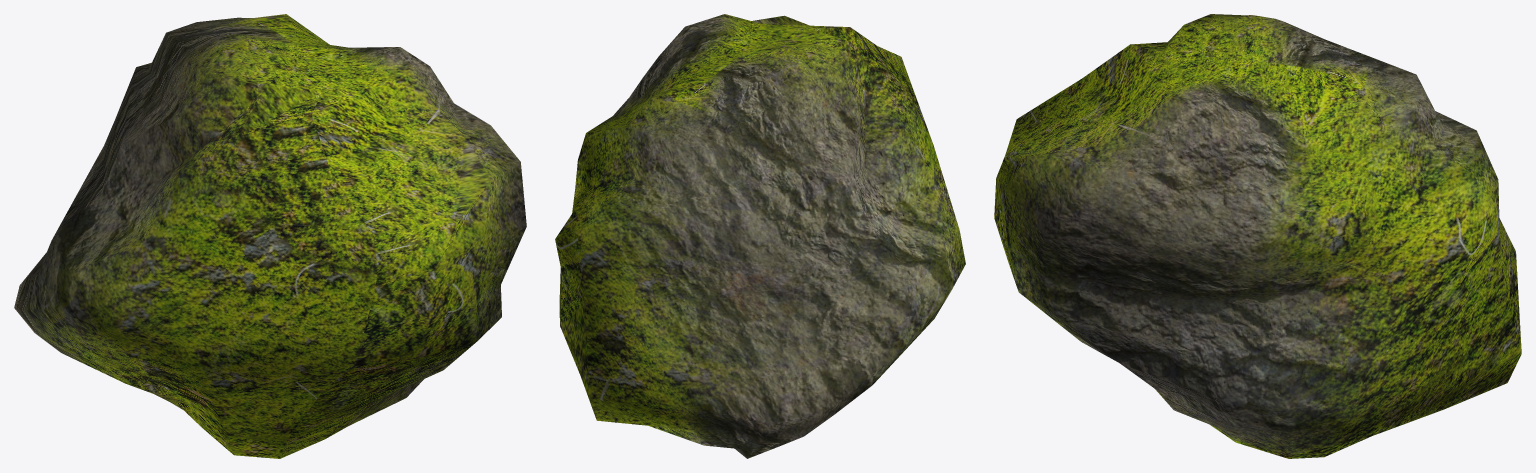
Rendered from mossy_rock.glb.
3 views of the same model, side by side, from view 1: azimuth 30°, elevation 25°; view 2: azimuth 150°, elevation 25°; view 3: azimuth 270°, elevation 25° (orthographic). The views are drawn at different scales.
Parts seen in each view (by area): view 1: low1; view 2: low1; view 3: low1.
Part boxes in pixels (x1=…): low1: x1=14, y1=14, x2=526, y2=458; low1: x1=555, y1=14, x2=965, y2=458; low1: x1=994, y1=14, x2=1521, y2=458.
Size of the model in its own units: 8.32 by 7.64 by 9.87.
Materials: 1 (1 with a texture image).
